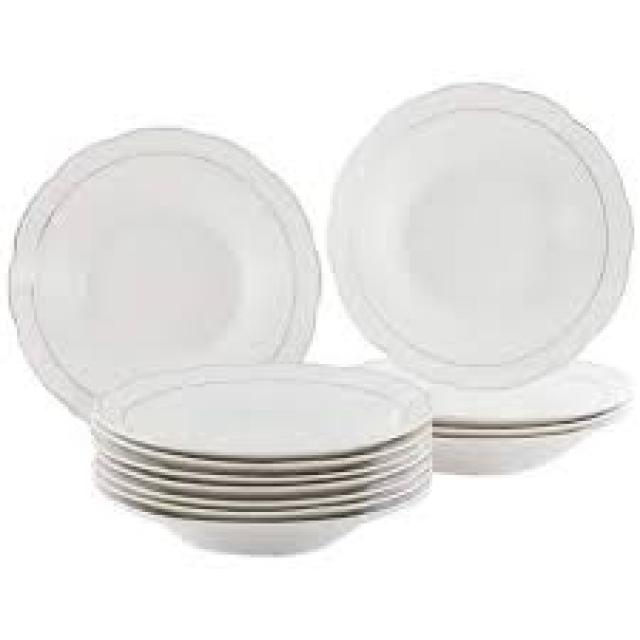Plate: (328, 71, 628, 395), (15, 123, 318, 407)
